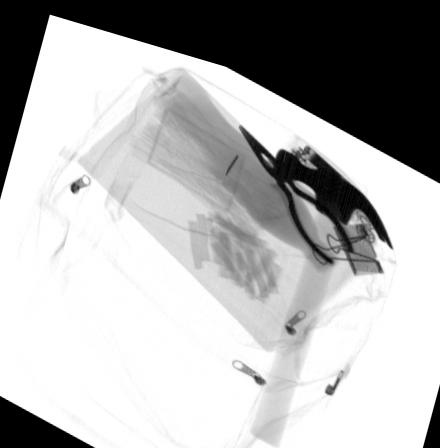Hammer: (249, 131, 392, 430)
Pliers: (238, 110, 356, 245)
